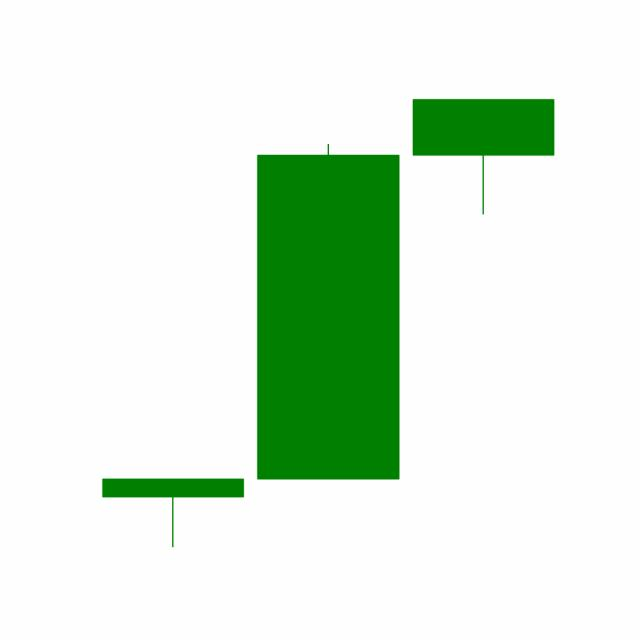Hanging Man: (405, 98, 561, 216)
